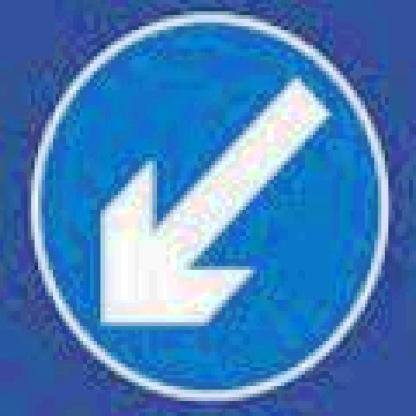Keep left: (26, 7, 396, 404)
